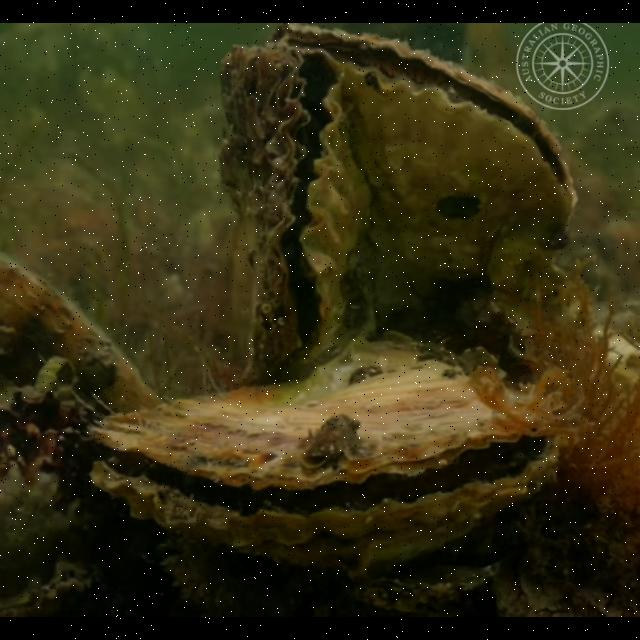Oyster-Closed: (0, 250, 162, 432)
Oyster-Open: (84, 333, 558, 583), (270, 24, 574, 352), (216, 44, 370, 390)
